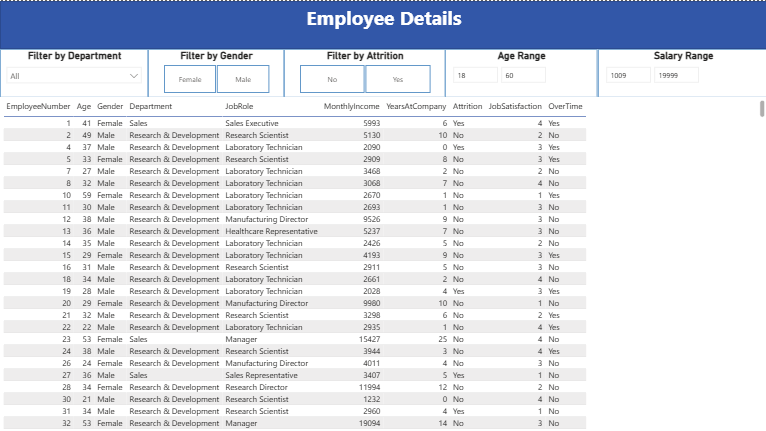

The page's visual inventory and layout, read from the dashboard file:
{"tool":"powerbi","page":{"name":"Page 4","canvas":[1280,720],"ordinal":3},"visuals":[{"type":"shape","box":[0,0,1280,80],"z":0},{"type":"textbox","box":[0,0,1280,80.6],"z":1000},{"type":"slicer","title":"Filter by Department","fields":{"Values":["WA_Fn-UseC_-HR-Employee-Attrition.Department"]},"box":[0,80.6,246.9,80.6],"z":2000},{"type":"slicer","title":"Filter by Gender","fields":{"Values":["WA_Fn-UseC_-HR-Employee-Attrition.Gender"]},"box":[246.9,80.6,226.8,80.6],"z":3000},{"type":"slicer","title":"Filter by Attrition","fields":{"Values":["WA_Fn-UseC_-HR-Employee-Attrition.Attrition"]},"box":[473.7,80.6,268.8,80.6],"z":4000},{"type":"slicer","title":"Age Range","fields":{"Values":["WA_Fn-UseC_-HR-Employee-Attrition.Age"]},"box":[742.5,80.6,253.6,80.6],"z":5000},{"type":"slicer","title":"Salary Range","fields":{"Values":["WA_Fn-UseC_-HR-Employee-Attrition.MonthlyIncome"]},"box":[996.1,80.6,283.9,80.6],"z":6000},{"type":"tableEx","fields":{"Values":["WA_Fn-UseC_-HR-Employee-Attrition.EmployeeNumber","WA_Fn-UseC_-HR-Employee-Attrition.Age","WA_Fn-UseC_-HR-Employee-Attrition.Gender","WA_Fn-UseC_-HR-Employee-Attrition.Department","WA_Fn-UseC_-HR-Employee-Attrition.JobRole","WA_Fn-UseC_-HR-Employee-Attrition.MonthlyIncome","WA_Fn-UseC_-HR-Employee-Attrition.YearsAtCompany","WA_Fn-UseC_-HR-Employee-Attrition.Attrition","WA_Fn-UseC_-HR-Employee-Attrition.JobSatisfaction","WA_Fn-UseC_-HR-Employee-Attrition.OverTime"]},"box":[0,230.1,1280,490.5],"z":7000},{"type":"actionButton","title":"Overview","box":[0,1.7,165,78.3],"z":8000},{"type":"actionButton","title":"Attrition","box":[165,0,140,80],"z":8001},{"type":"actionButton","title":"Salary","box":[906.7,0,163.3,80],"z":8002},{"type":"actionButton","title":"Details","box":[1070,0,210,80],"z":8003}]}

Visuals, with their boxes in screenshot pixels (x1, y1, x2, y2), scaled from the page's 1280x720 canvas onto the 766x431 screenshot:
shape: bbox=(0, 0, 765, 48)
textbox: bbox=(0, 0, 765, 48)
"Filter by Department" slicer: bbox=(0, 48, 148, 96)
"Filter by Gender" slicer: bbox=(148, 48, 283, 96)
"Filter by Attrition" slicer: bbox=(283, 48, 444, 96)
"Age Range" slicer: bbox=(444, 48, 596, 96)
"Salary Range" slicer: bbox=(596, 48, 765, 96)
tableEx - WA_Fn-UseC_-HR-Employee-Attrition.EmployeeNumber x WA_Fn-UseC_-HR-Employee-Attrition.Age: bbox=(0, 138, 765, 430)
"Overview" actionButton: bbox=(0, 1, 99, 48)
"Attrition" actionButton: bbox=(99, 0, 183, 48)
"Salary" actionButton: bbox=(543, 0, 640, 48)
"Details" actionButton: bbox=(640, 0, 765, 48)
